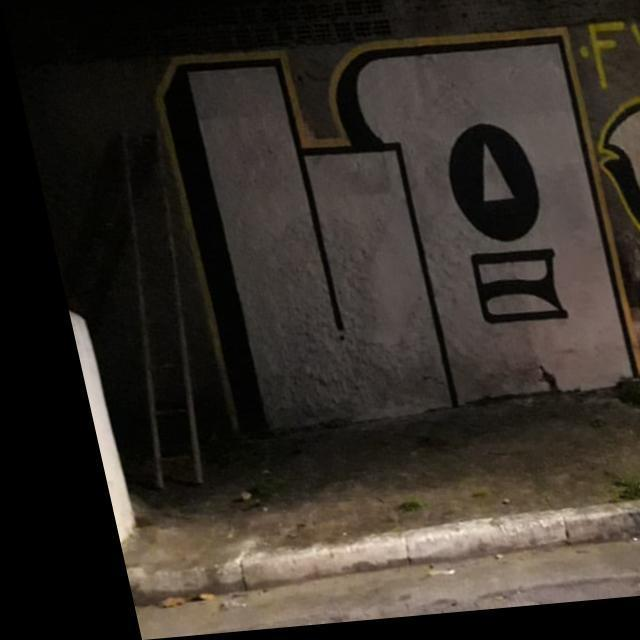-: (139, 16, 640, 439), (571, 18, 640, 112)
